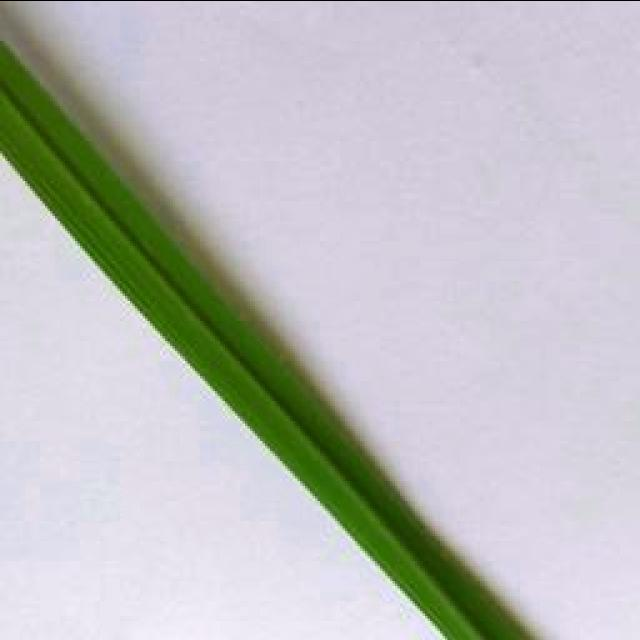Healthy: (0, 45, 530, 640)
